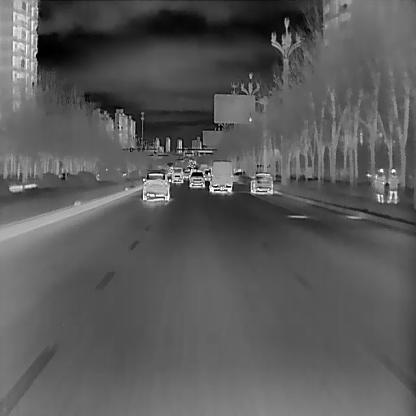car: (140, 172, 169, 202), (208, 159, 233, 193), (249, 172, 272, 194), (373, 168, 384, 202), (387, 168, 397, 202), (187, 171, 205, 187), (170, 167, 183, 183)
